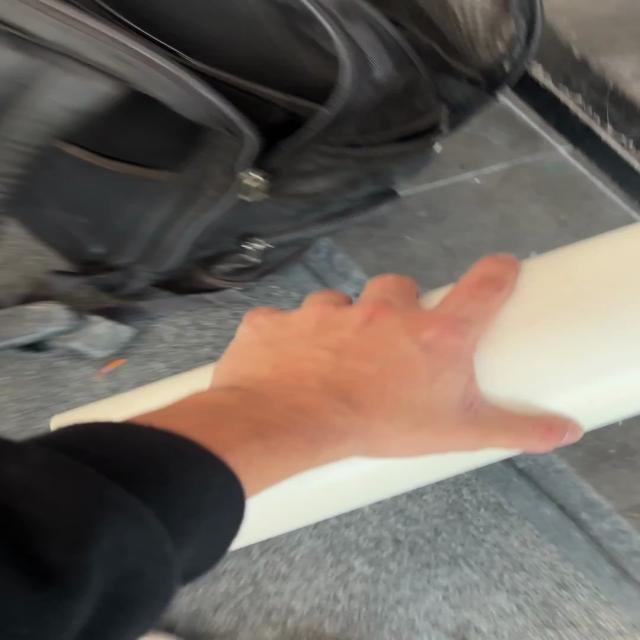Coral: (48, 220, 638, 551)
